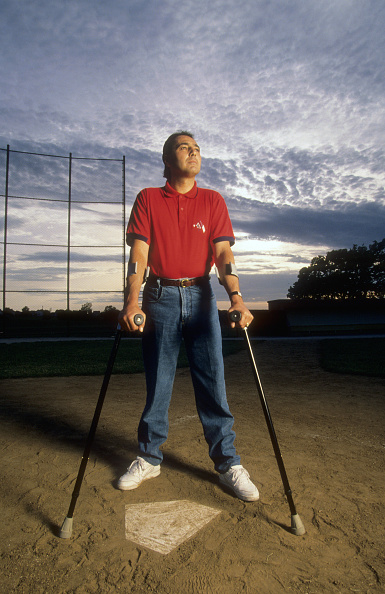em pe: (112, 107, 244, 500)
